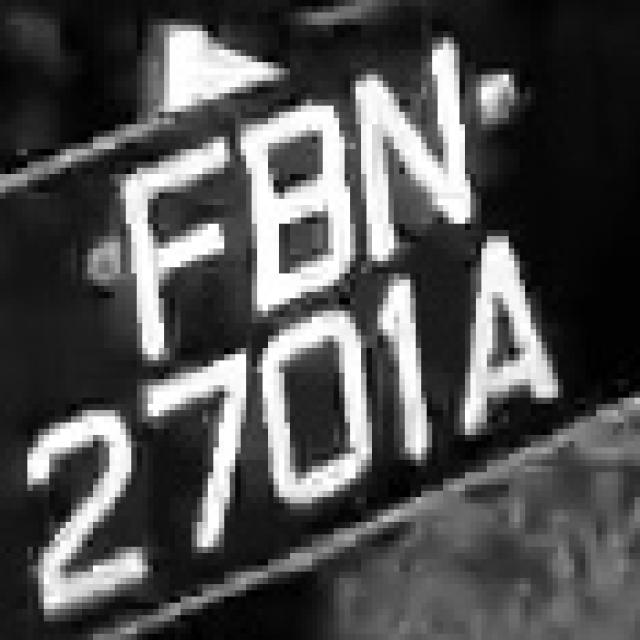0: (235, 310, 388, 516)
1: (367, 267, 438, 491)
2: (22, 398, 164, 634)
7: (120, 360, 268, 566)
A: (432, 224, 564, 454)
B: (230, 81, 350, 317)
F: (98, 112, 240, 354)
N: (334, 31, 487, 267)
